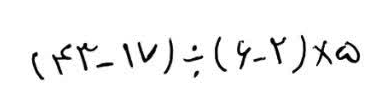character: (181, 42, 205, 80), (50, 43, 73, 77), (290, 33, 308, 76), (75, 41, 98, 73), (334, 39, 362, 65), (311, 39, 335, 68), (212, 34, 229, 74), (135, 40, 160, 65), (268, 34, 288, 65), (161, 36, 176, 76), (235, 38, 252, 72), (30, 50, 47, 82), (121, 41, 136, 70), (94, 58, 115, 70), (250, 54, 269, 64)
